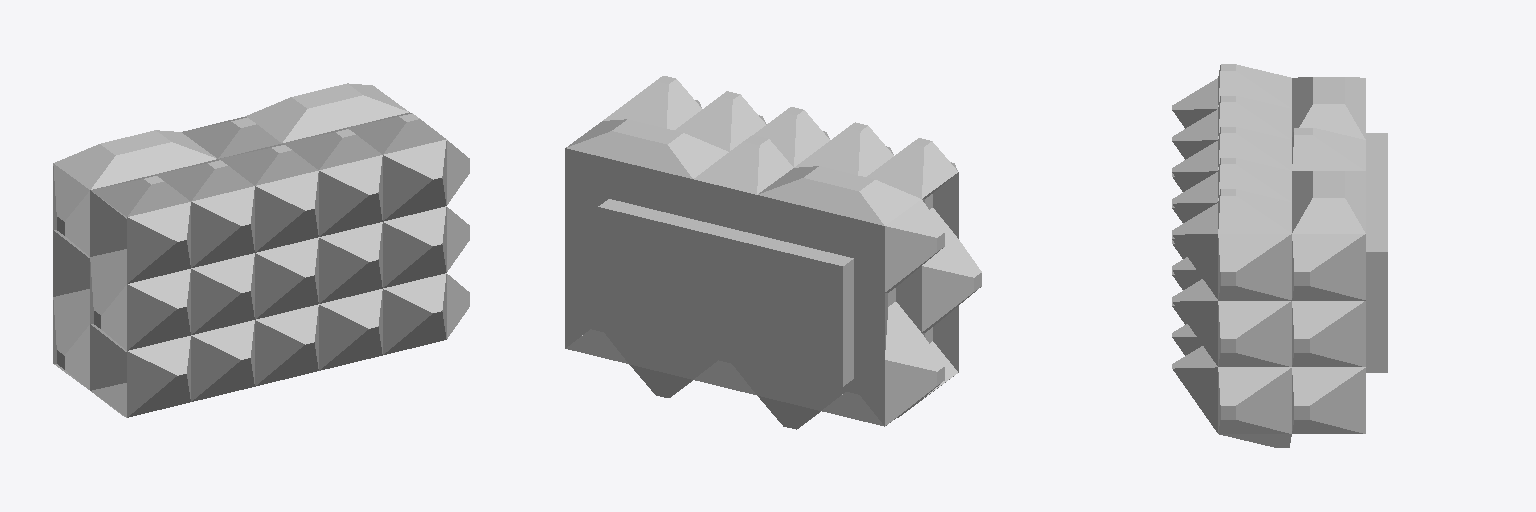
File: 240Kat.obj
3 views of the same model, side by side, from view 1: azimuth 30°, elevation 25°; view 2: azimuth 150°, elevation 25°; view 3: azimuth 270°, elevation 25° (orthographic).
Visible parts, largest first — view 1: GenericCeiling_80, GenericInteriorWall_50, Glazing_DoublePane_Clear_80; view 2: GenericInteriorWall_50, Water_Surface, GenericFloor_20, Glazing_DoublePane_Clear_80; view 3: GenericInteriorWall_50, GenericCeiling_80, Water_Surface, Glazing_DoublePane_Clear_80.
Boxes of the visible parts, box(x1,y1,x2,y2) form: GenericCeiling_80: box(127, 139, 446, 417); GenericInteriorWall_50: box(53, 83, 469, 417); Glazing_DoublePane_Clear_80: box(57, 84, 441, 374); GenericInteriorWall_50: box(566, 79, 981, 429); Water_Surface: box(598, 199, 853, 386); GenericFloor_20: box(565, 148, 884, 425); Glazing_DoublePane_Clear_80: box(612, 76, 981, 385); GenericInteriorWall_50: box(1218, 64, 1365, 447); GenericCeiling_80: box(1172, 78, 1217, 432); Water_Surface: box(1366, 133, 1387, 372); Glazing_DoublePane_Clear_80: box(1173, 64, 1344, 419).
Bounding box in the file's own units: 37.61 × 24.57 × 19.07.